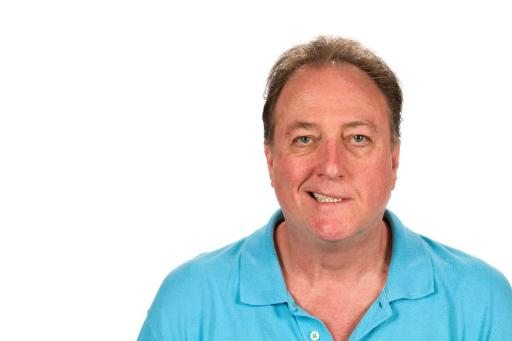left_eye: (346, 134, 372, 146)
left_lip_corner: (343, 194, 357, 205)
right_eye: (293, 135, 319, 147)
right_lip_corner: (300, 186, 310, 196)
